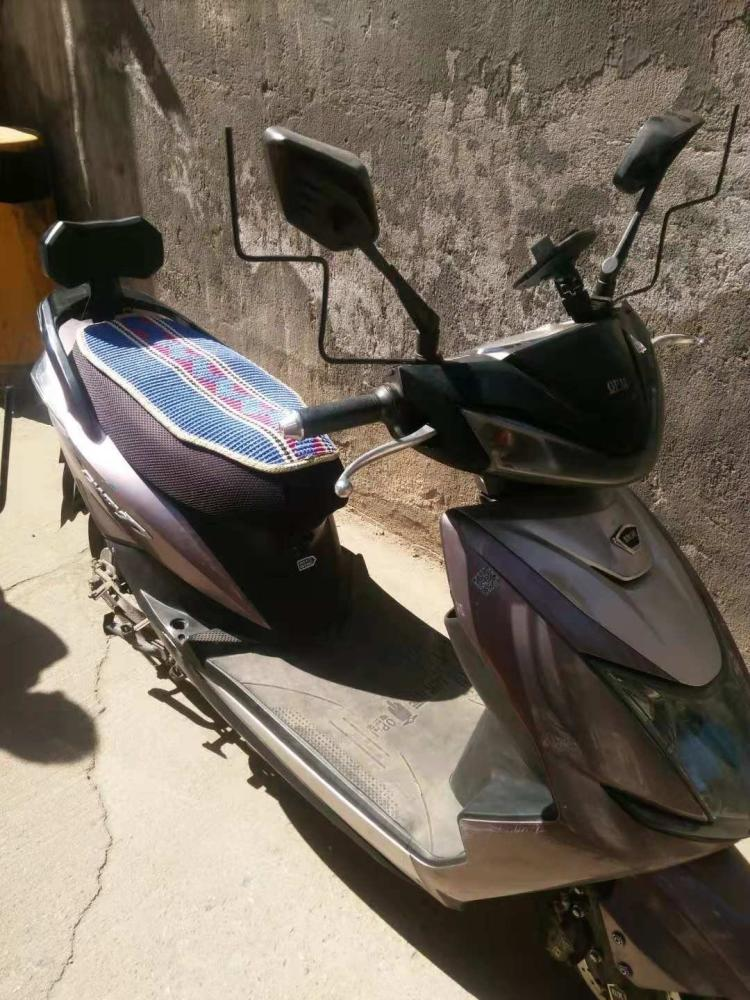电动车: (22, 91, 746, 995)
